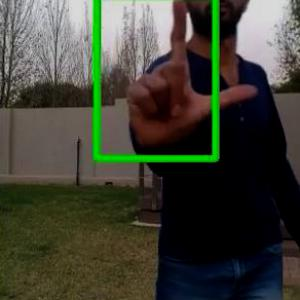land_hand: (123, 0, 259, 147)
